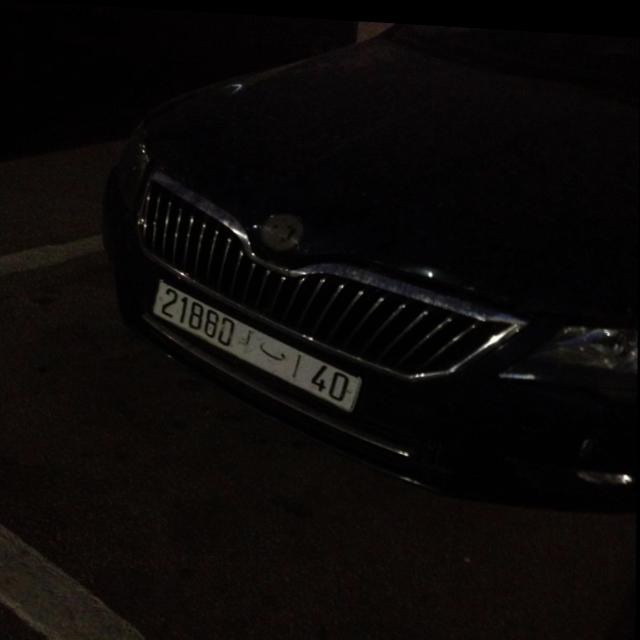License-Plate: (153, 279, 363, 407)
